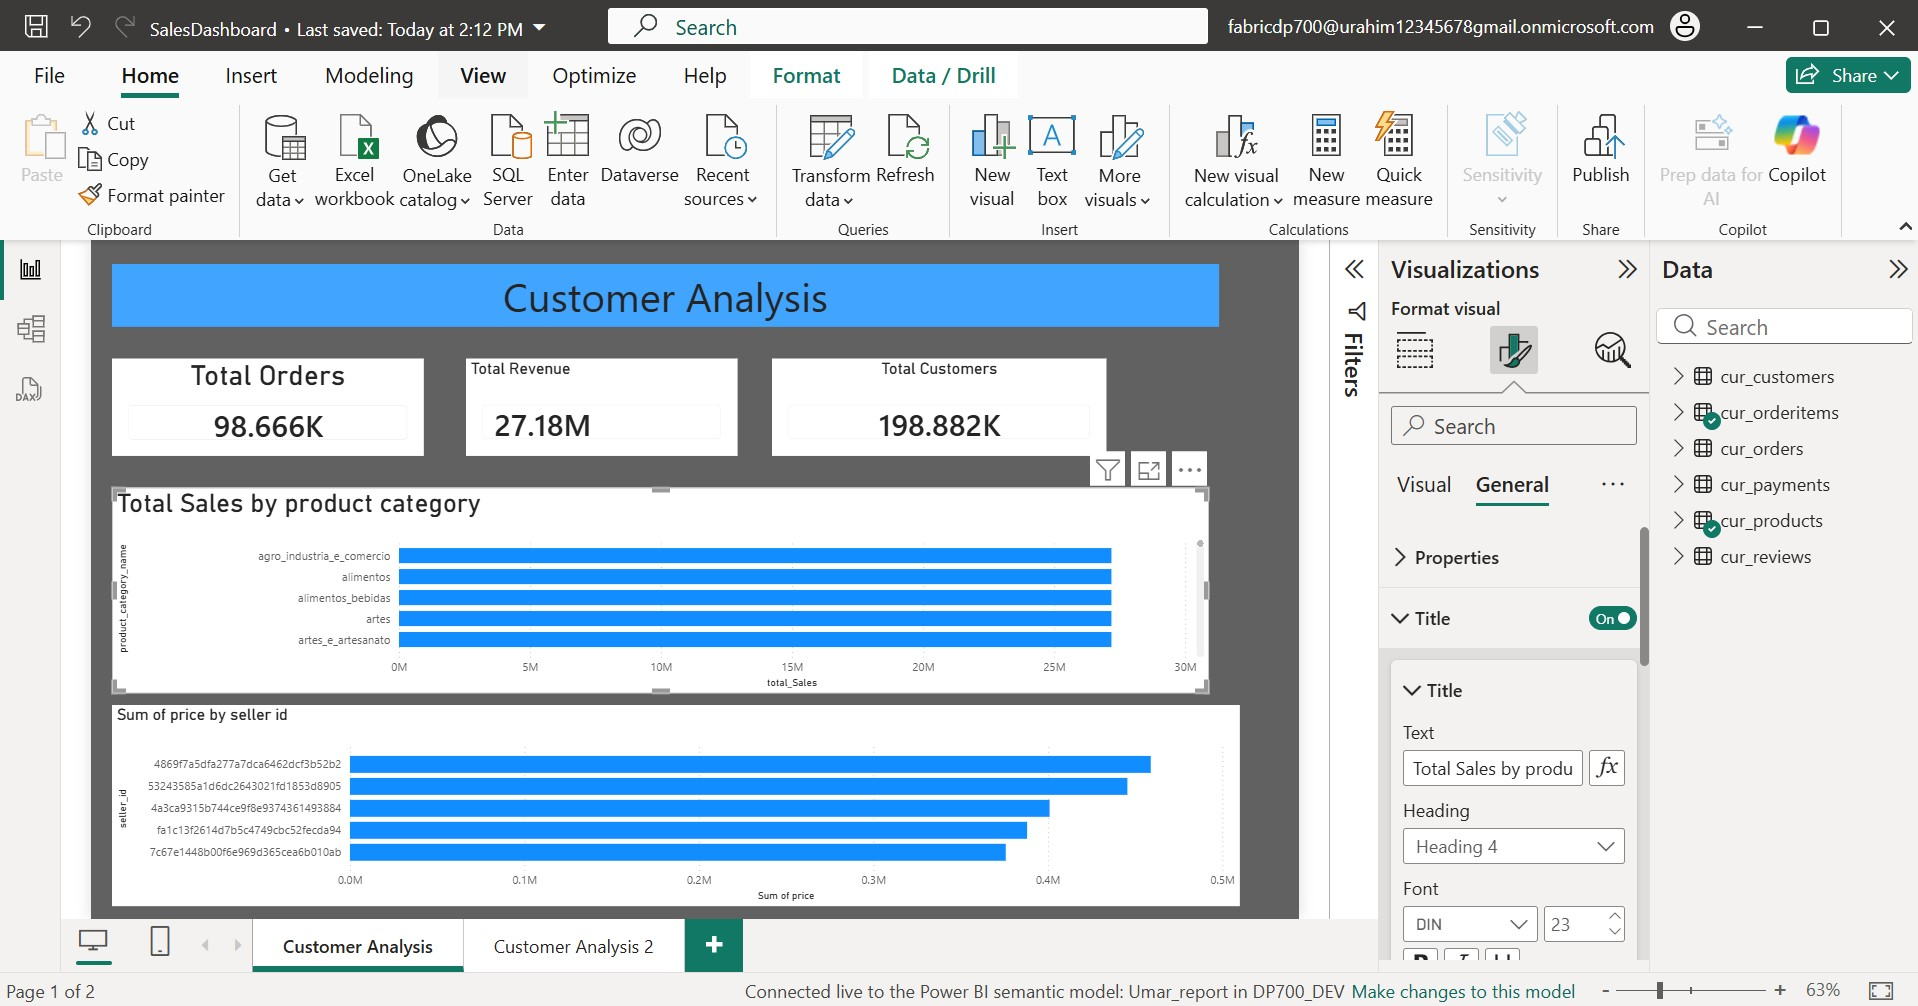

Layout of this report page (visuals, bound fields, positions):
{"tool":"powerbi","page":{"name":"Customer Analysis","canvas":[1280,720],"ordinal":0},"visuals":[{"type":"barChart","title":"total Sales by product category","fields":{"Category":["cur_products.product_category_name"],"Y":["cur_orderitems.total_Sales"]},"box":[22.3,262.5,1162.7,217.9],"z":0},{"type":"cardVisual","title":"Total Orders","fields":{"Data":["Count(cur_orderitems.order_id)"]},"box":[22.3,125.7,330.8,103.4],"z":1000},{"type":"cardVisual","title":"Total Revenue","fields":{"Data":["Sum(cur_orderitems.price)"]},"box":[397.7,125.7,287.9,103.4],"z":2000},{"type":"cardVisual","title":"Total Customers","fields":{"Data":["Count(cur_customers.customer_id)"]},"box":[722.1,125.7,354.7,103.4],"z":3000},{"type":"barChart","title":"Sum of price by seller id","fields":{"Category":["cur_orderitems.seller_id"],"Y":["Sum(cur_orderitems.price)"]},"box":[22.3,493.1,1196.1,213.1],"z":4000},{"type":"textbox","box":[22.3,25.4,1173.9,66.8],"z":5000}]}

Visuals, with their boxes on the page's 1280x720 design canvas (x1, y1, x2, y2). These are canvas units, not pixel positions in the 1918x1006 screenshot, which may show the page scaled, cropped or inside an application window:
"total Sales by product category" barChart: box=[22, 262, 1185, 480]
"Total Orders" cardVisual: box=[22, 126, 353, 229]
"Total Revenue" cardVisual: box=[398, 126, 686, 229]
"Total Customers" cardVisual: box=[722, 126, 1077, 229]
"Sum of price by seller id" barChart: box=[22, 493, 1218, 706]
textbox: box=[22, 25, 1196, 92]
